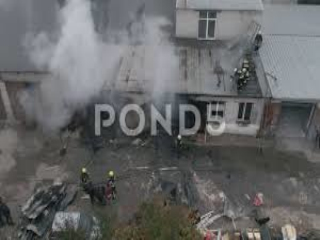smoke: (26, 14, 182, 104)
